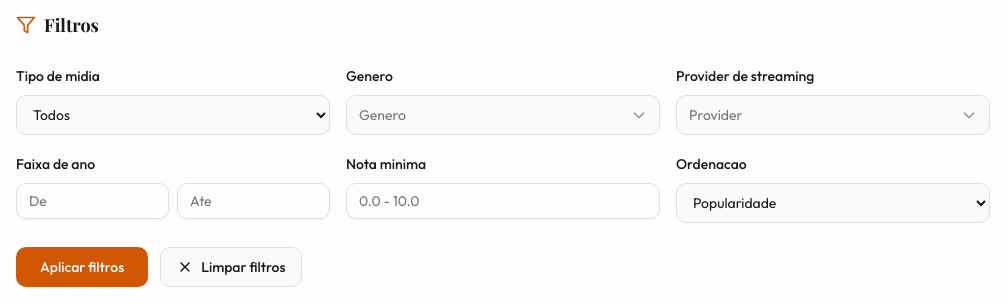
Test: SearchFilters › clears filters when clear button is clicked
In the number field with placeholder "De": (92, 201) [16,183,169,219], type "2020"
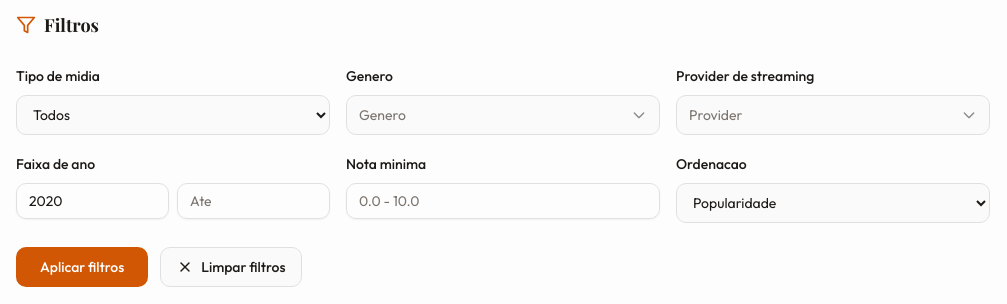
Click the button "Limpar filtros": (231, 267) [160,247,302,287]
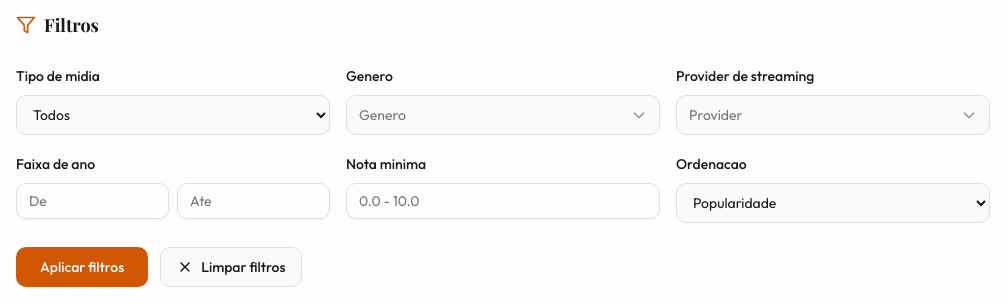
Now the number field with placeholder "De" is empty, box [16,183,169,219]
